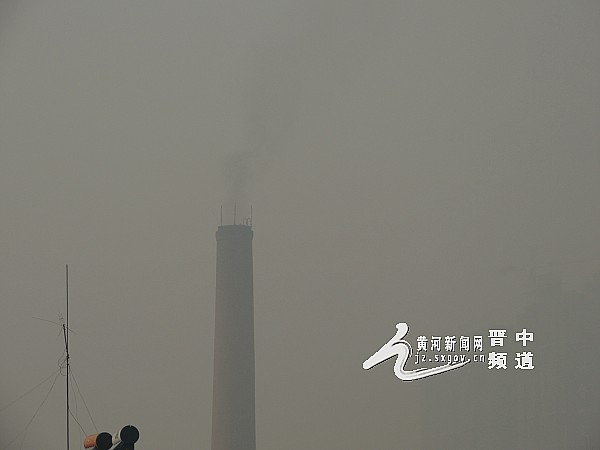dust: (207, 156, 272, 237)
